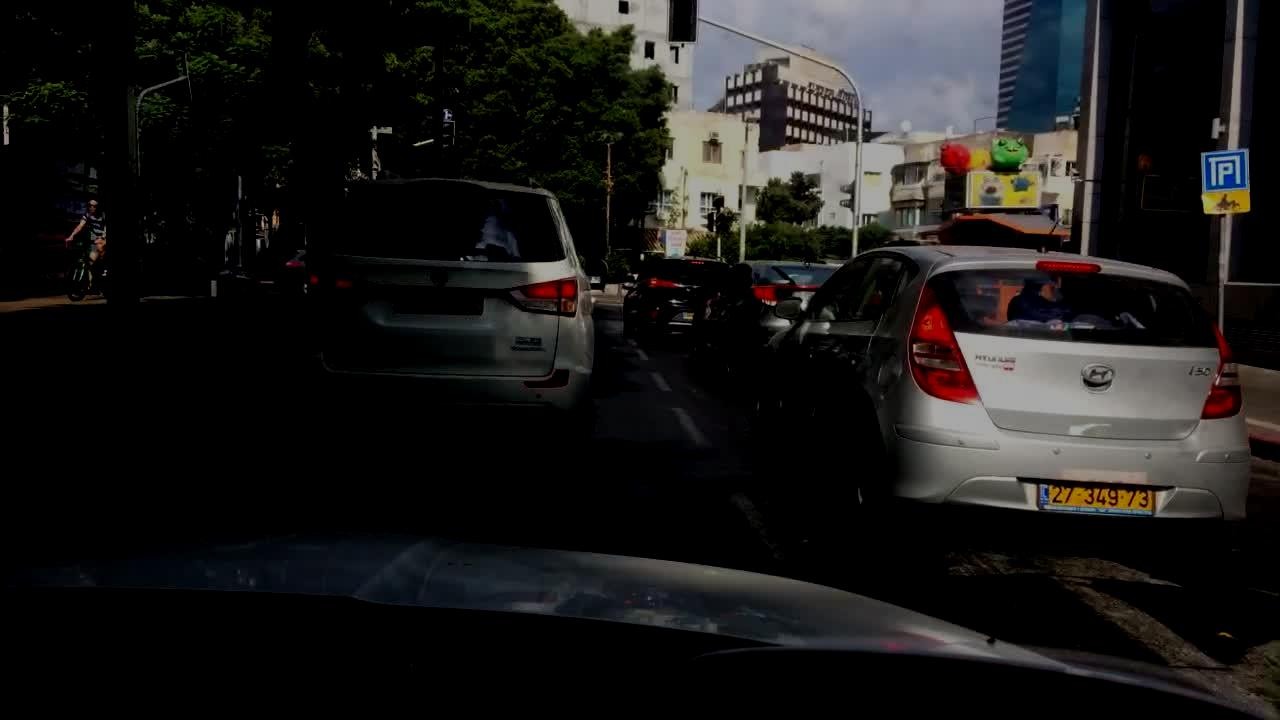Hyundai: (1077, 360, 1118, 390)
